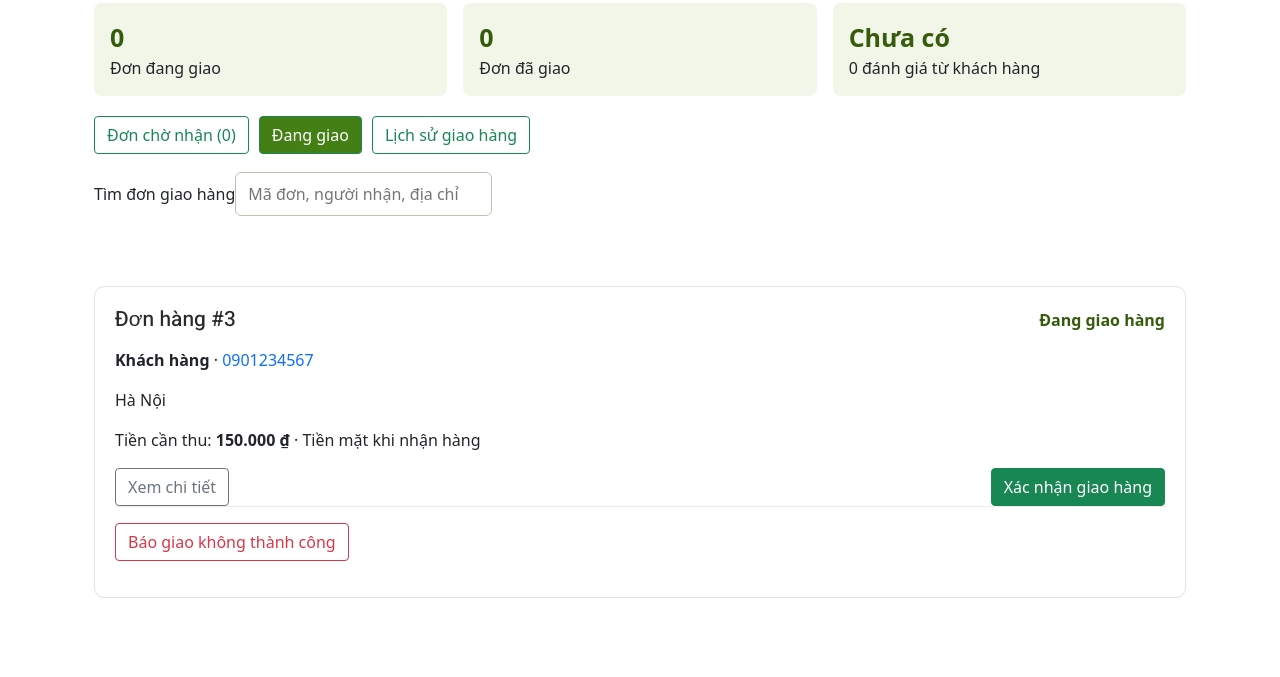
Test: one delivery mutation blocks contradictory completion and failure actions
Click the button "Xác nhận giao hàng". click: [1078, 487]
box: [991, 468, 1165, 506]
(page scrolled)
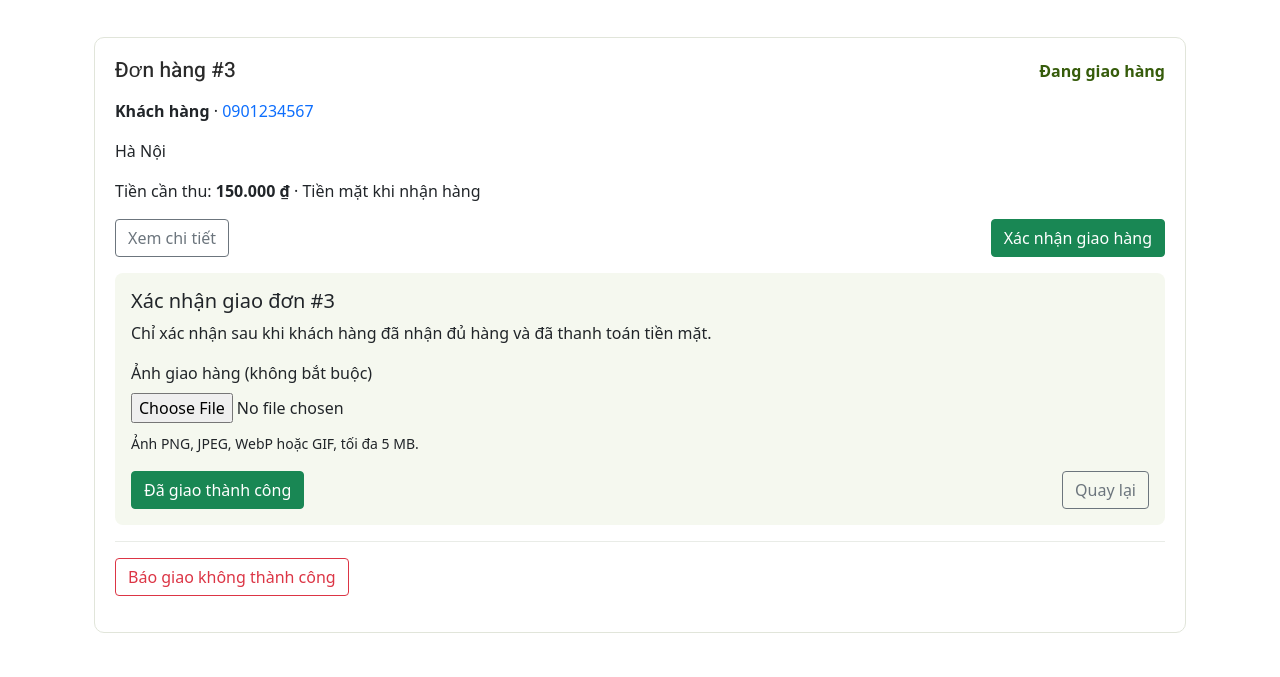
Click the button "Báo giao không thành công". click: [232, 577]
box: [115, 558, 349, 596]
(page scrolled)
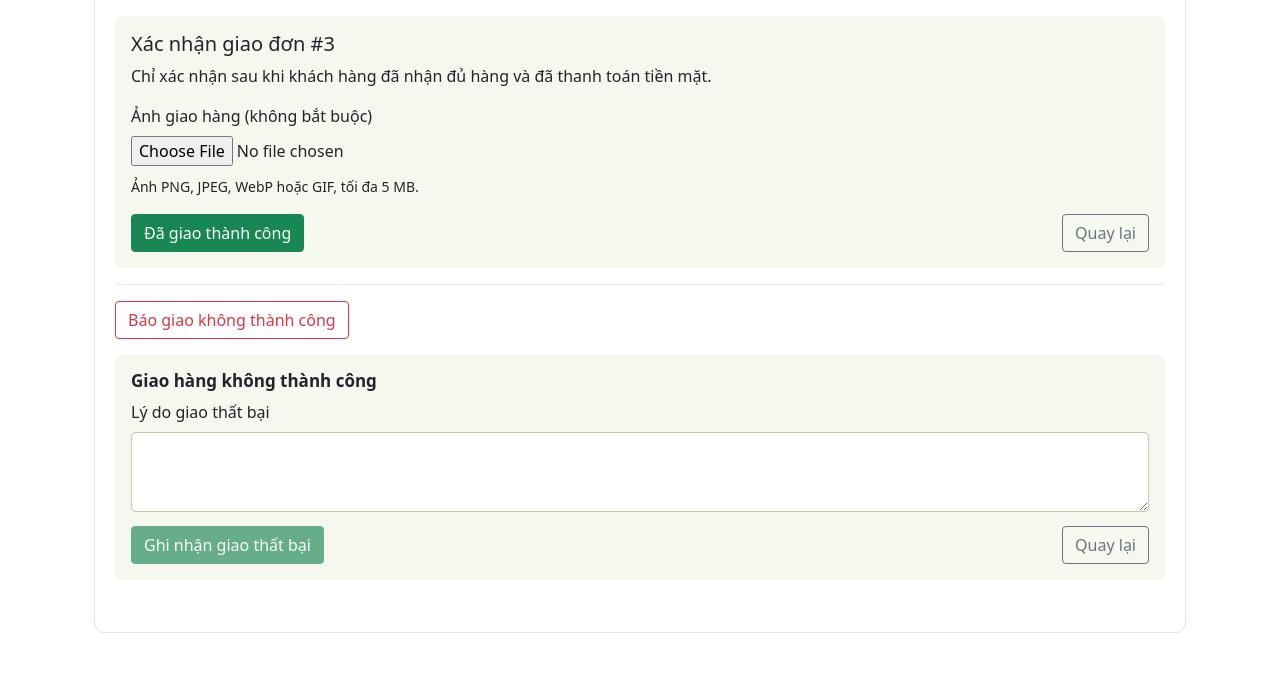
Type "Không liên lạc được khách" into the text box labelled "Lý do giao thất bại". click: [640, 472]
box: [131, 432, 1149, 512]
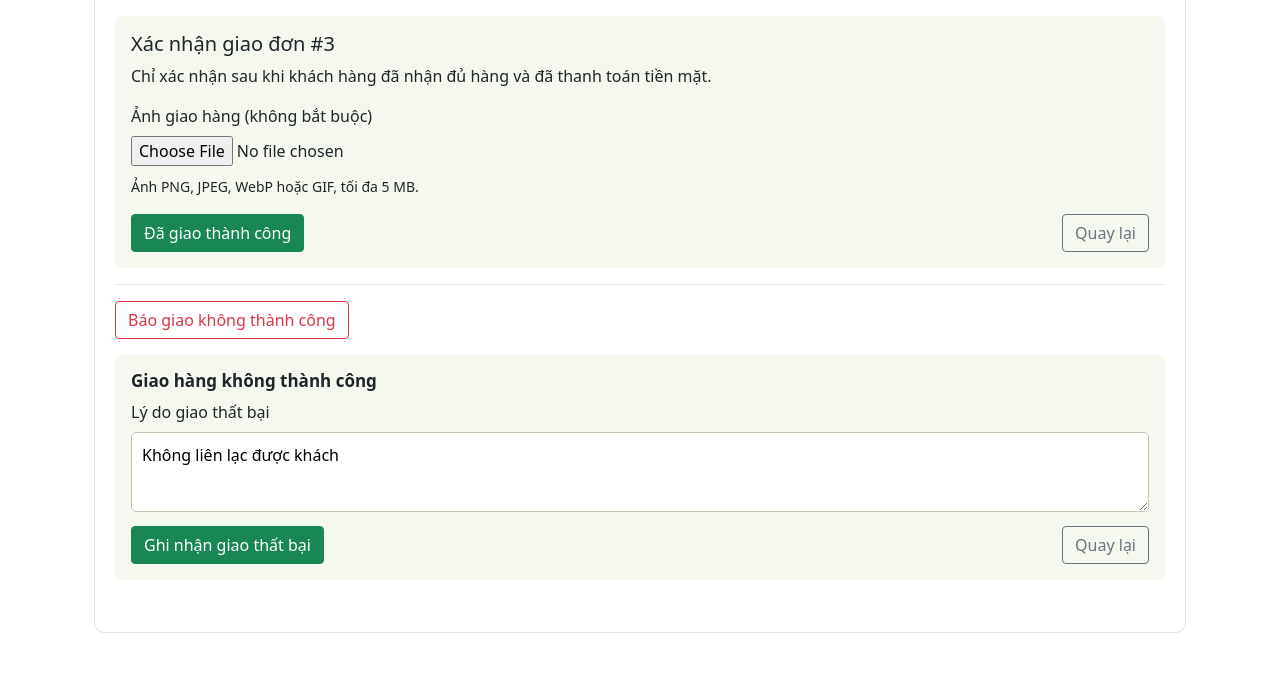
Click the button "Ghi nhận giao thất bại". click: [227, 545]
box: [131, 526, 324, 564]
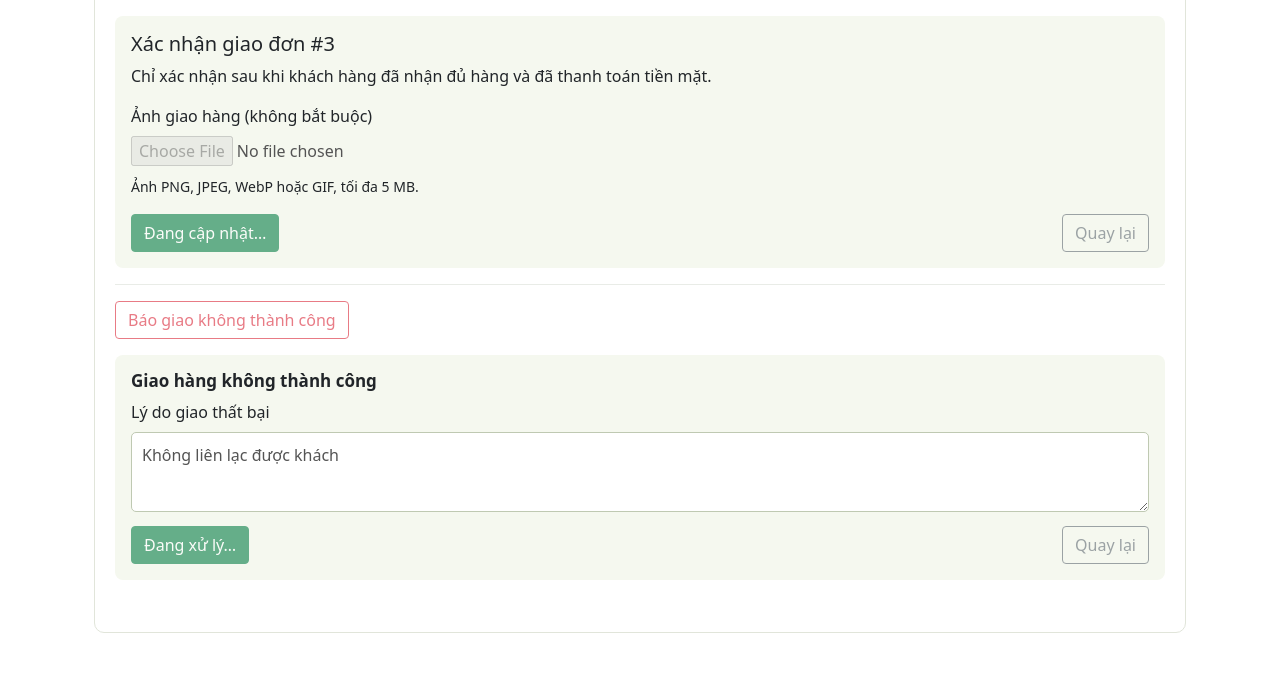
Result: the button "Đang cập nhật…" is disabled
Click the button "Đang cập nhật…". click: [205, 233]
box: [131, 214, 279, 252]
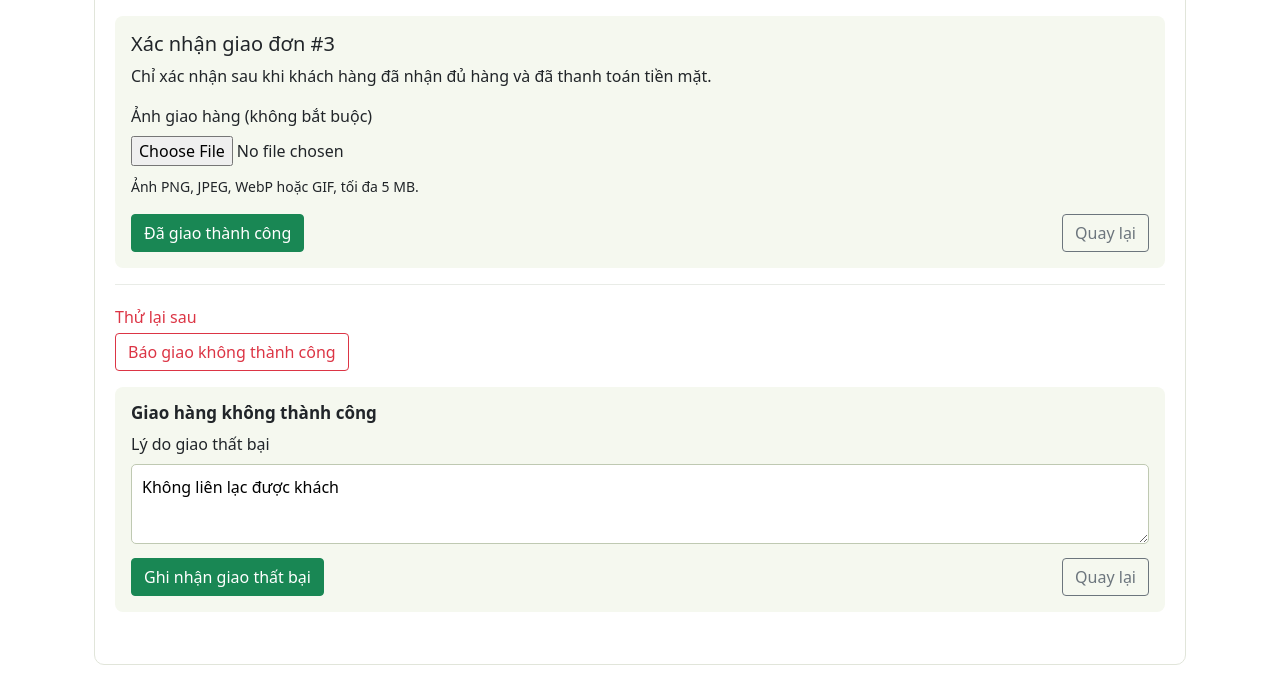
Result: the text "Thử lại sau" is shown at [115, 306, 197, 328]
Result: the button "Đã giao thành công" is enabled at [131, 214, 304, 252]
